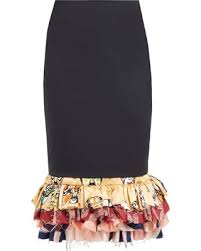F_tailored skirt: (36, 1, 151, 178)
